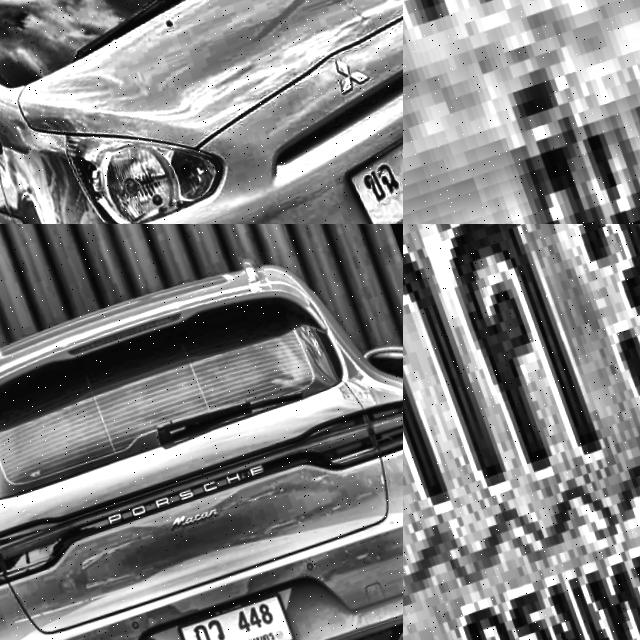license-plate: (403, 224, 640, 640), (403, 0, 640, 224), (321, 115, 403, 224), (162, 592, 291, 640)
